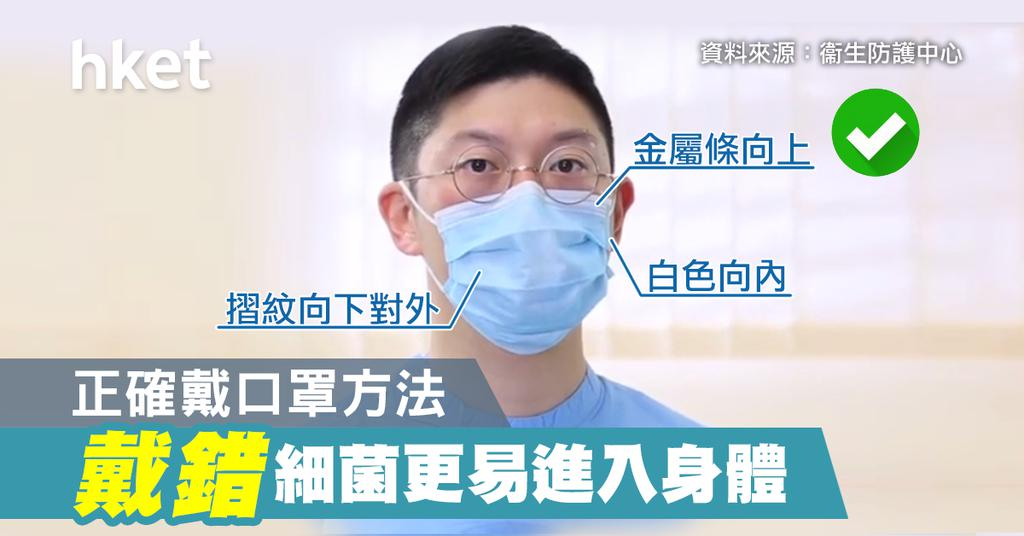mask: (417, 120, 611, 349)
